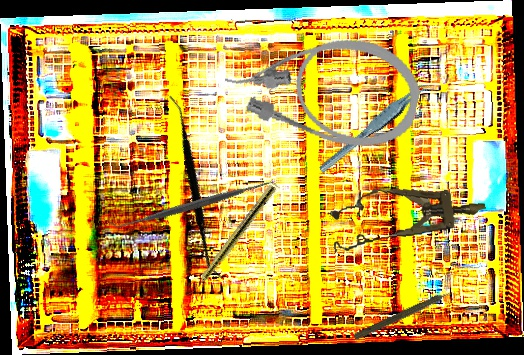Cannula: (216, 12, 429, 159)
Handpiece: (183, 182, 278, 303), (352, 284, 461, 345)
Spatula Surgical: (104, 94, 287, 280), (107, 117, 281, 292)
Speculum: (327, 175, 490, 256)
Tissue Forceps: (309, 79, 442, 174)
